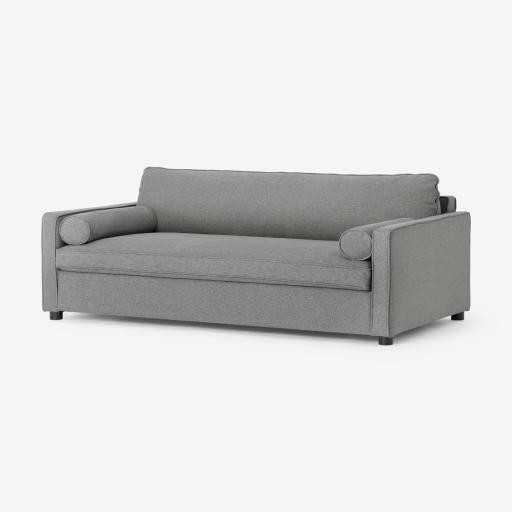back_cushion: (138, 167, 440, 240)
base: (59, 271, 369, 335)
left_arm: (370, 213, 470, 344)
legs: (378, 336, 392, 345), (451, 312, 464, 320), (50, 311, 62, 319)
one-seater: (42, 167, 470, 345)
right_arm: (42, 203, 135, 311)
seat_cushion: (57, 233, 371, 290)
